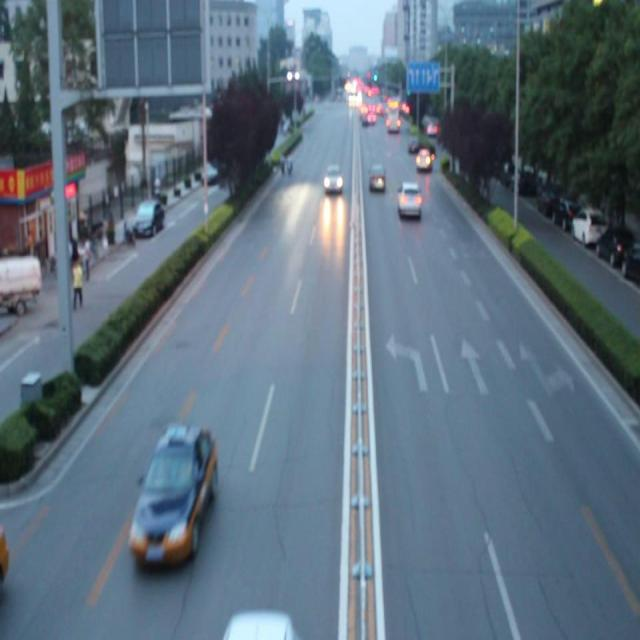car: (128, 422, 217, 564), (396, 179, 423, 222)
